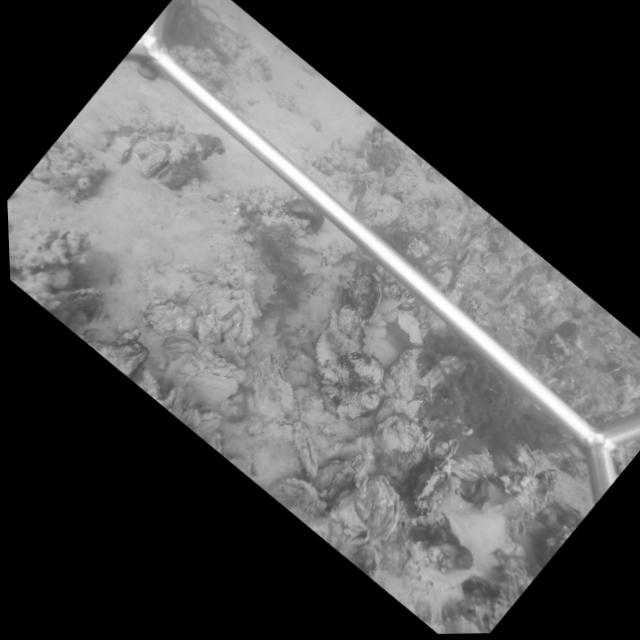Oyster-Closed: (254, 351, 303, 426), (358, 475, 402, 546), (314, 305, 365, 365), (416, 440, 458, 506), (383, 346, 420, 404), (186, 372, 240, 406), (46, 289, 107, 314), (291, 427, 318, 478), (502, 440, 538, 476), (395, 309, 425, 347), (362, 278, 383, 326), (221, 334, 248, 368), (160, 330, 204, 350), (196, 307, 218, 342), (138, 370, 161, 399), (168, 382, 186, 411), (218, 300, 239, 322)
Oyster-Indeterminate: (375, 410, 425, 454)
Oyster-Open: (454, 247, 471, 270)
